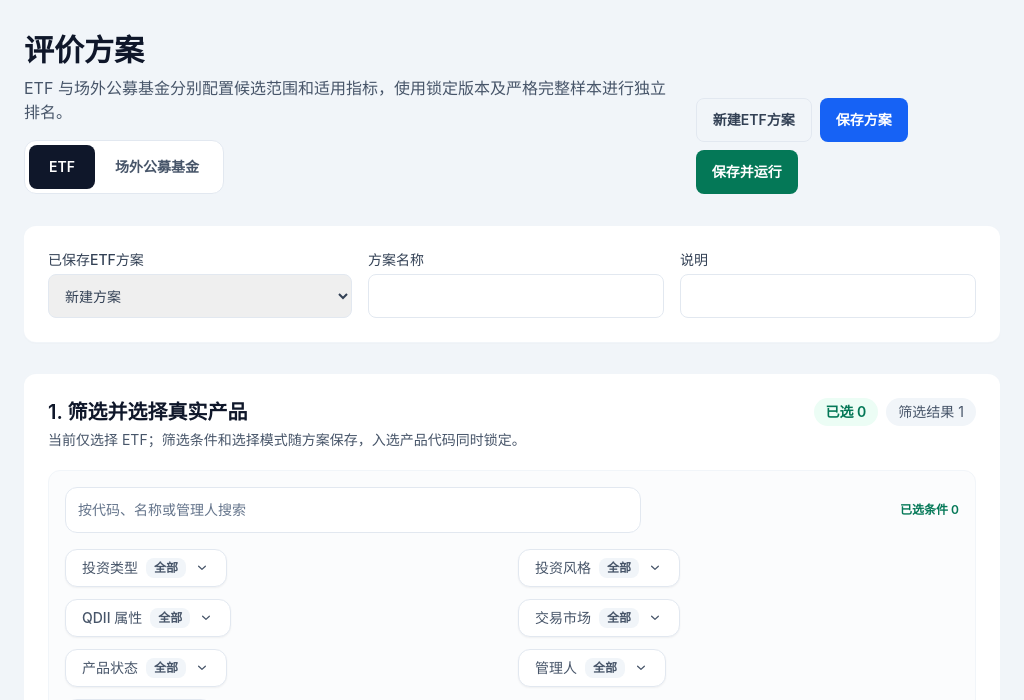
Test: EvaluationPlan › 支持分类筛选和日期或快照指标条件
Click the button "投资类型 全部": {"x": 146, "y": 568} [65,549,227,587]
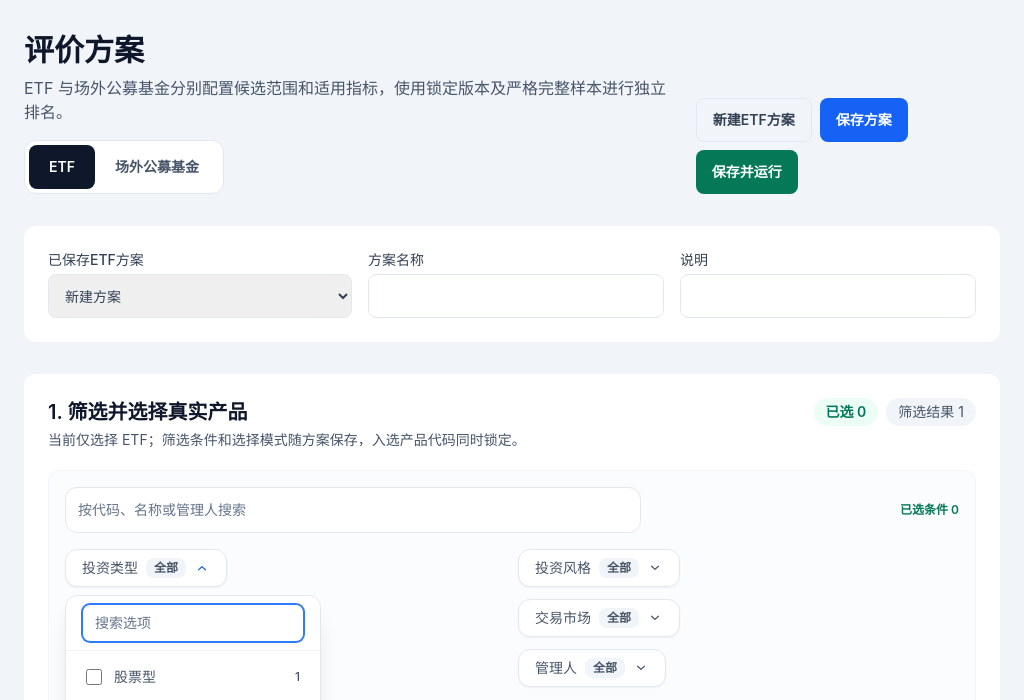
Click the checkbox labelled "股票型 1": {"x": 94, "y": 677} [86,669,102,685]
(page scrolled)
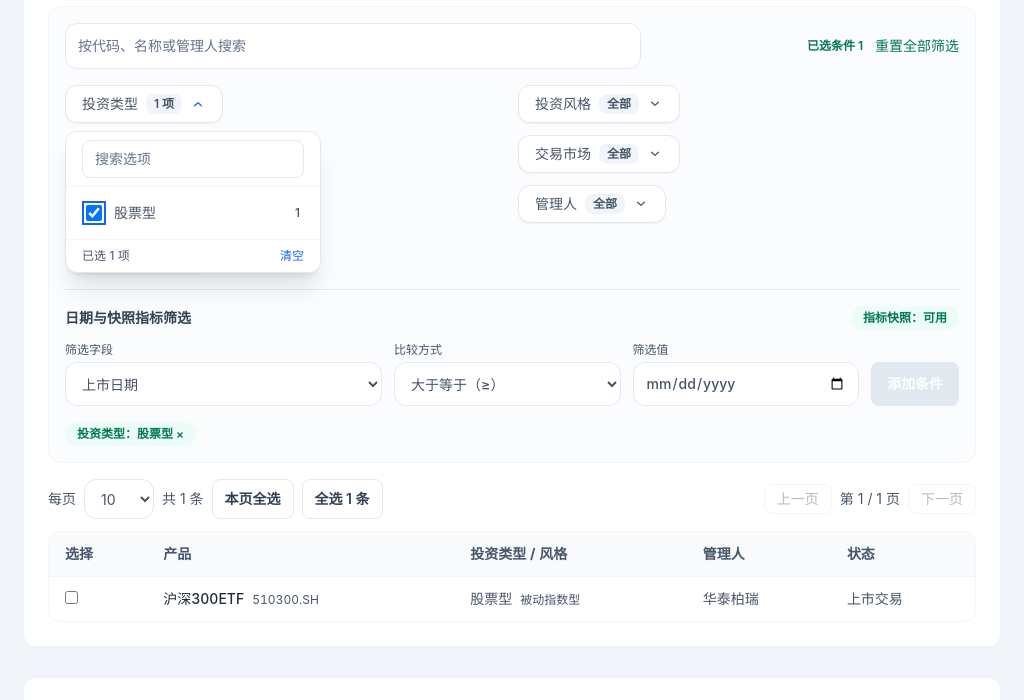
Select "近1年收益率（快照）" in the dropdown named "评价方案筛选字段": {"x": 224, "y": 384} [65,362,382,406]
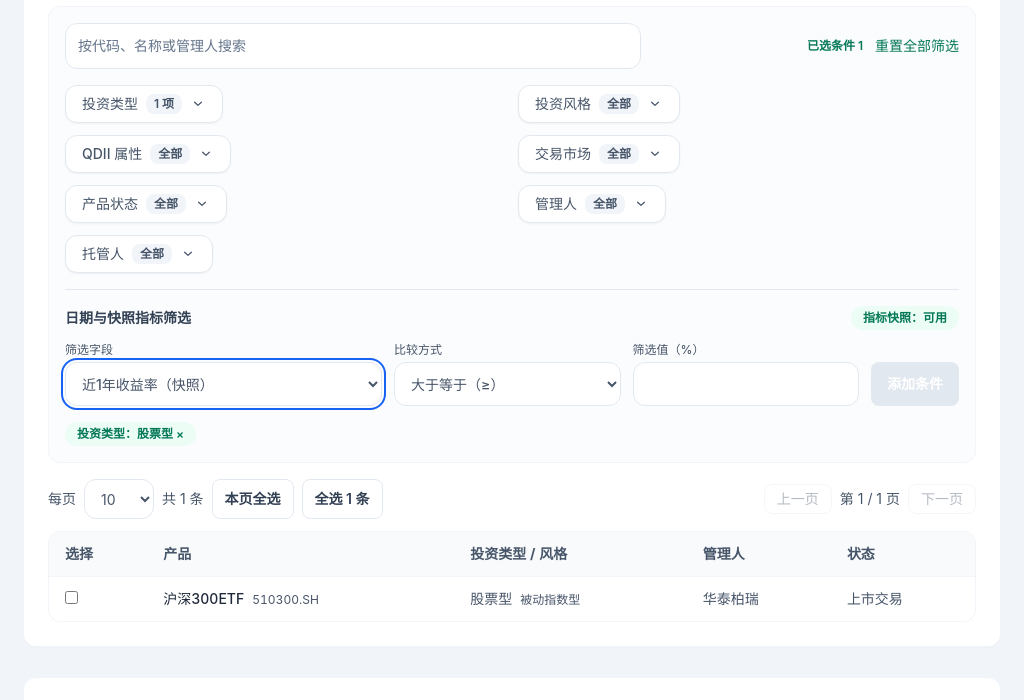
In the number field named "评价方案筛选值": {"x": 746, "y": 384} [632,362,859,406], type "5"
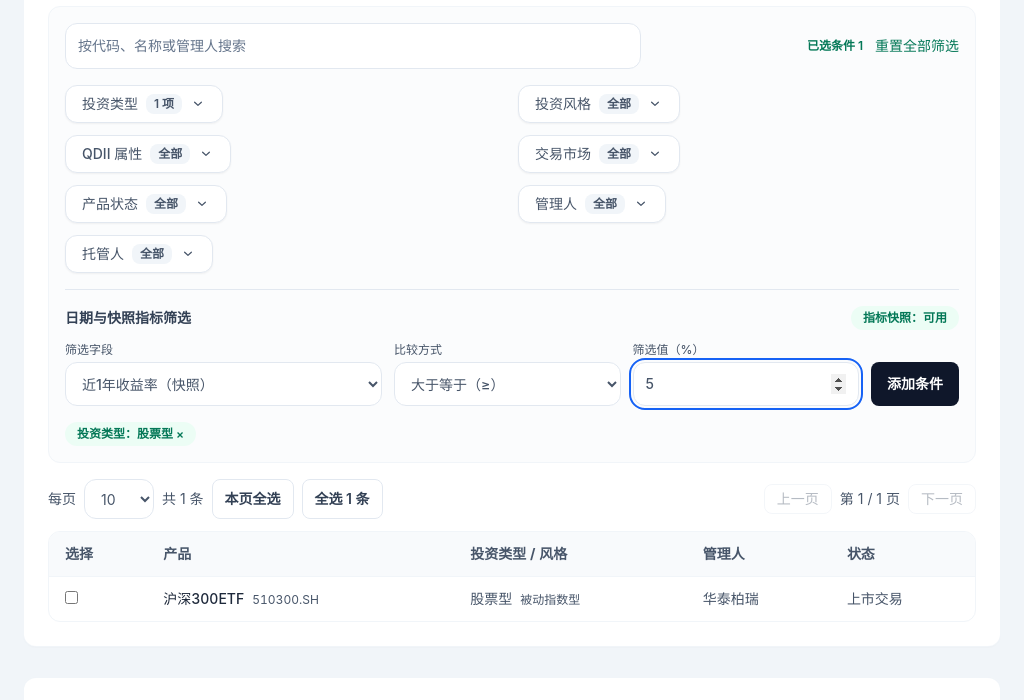
Click the button "添加条件": {"x": 915, "y": 384} [871,362,959,406]
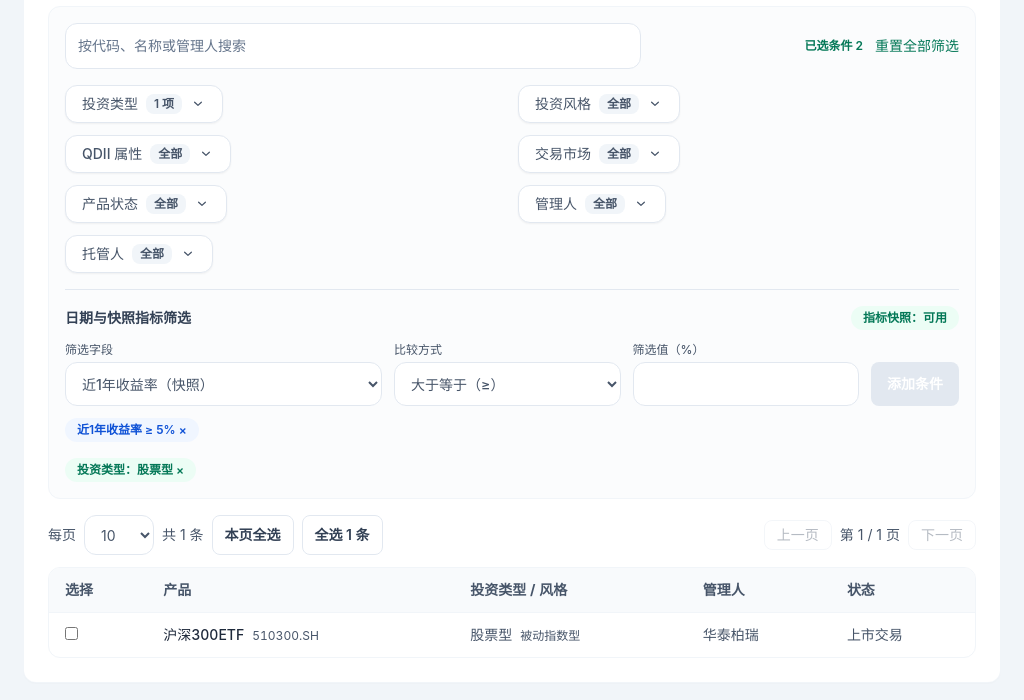
Now the button "近1年收益率 ≥ 5% ×" is shown, box [65,418,199,442]
